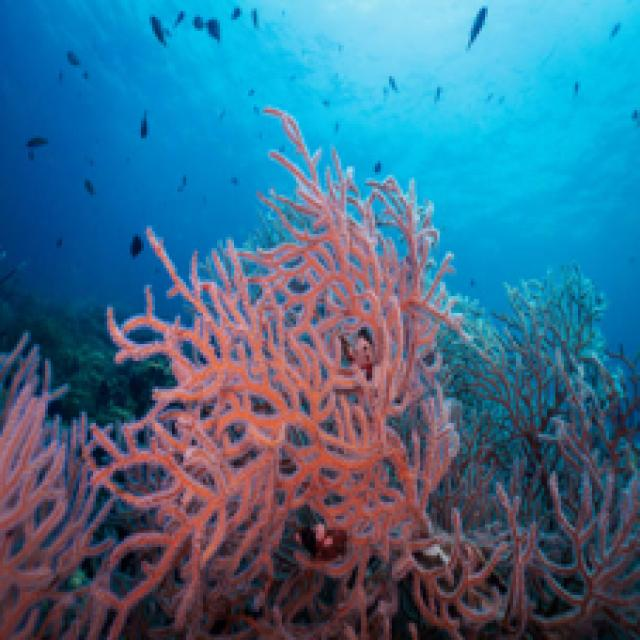Healthy: (86, 108, 458, 638), (441, 269, 638, 531), (396, 492, 638, 635), (1, 337, 114, 638)
